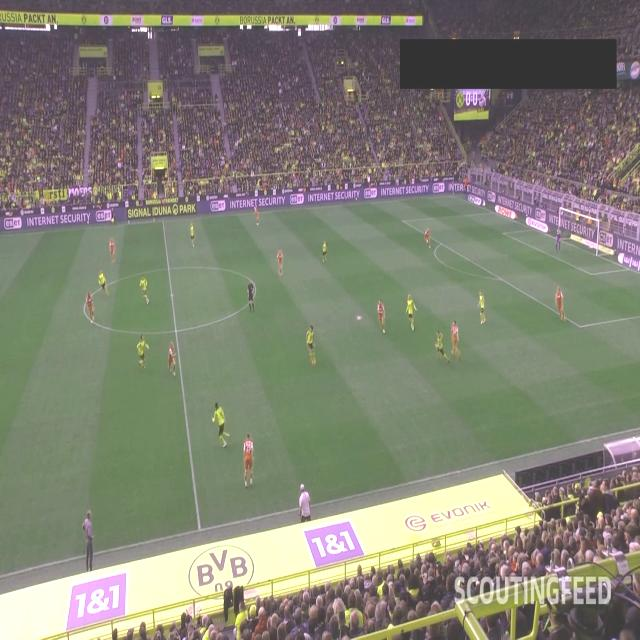ball: (354, 312, 365, 324)
f_player: (214, 402, 232, 446), (242, 433, 256, 489), (434, 330, 450, 362), (305, 324, 317, 366), (136, 336, 150, 372), (449, 320, 461, 360), (167, 343, 180, 377), (554, 288, 566, 322), (85, 292, 97, 326), (107, 236, 120, 264), (406, 295, 416, 331), (138, 275, 150, 303), (376, 300, 386, 332), (478, 291, 487, 326), (98, 271, 109, 297), (276, 250, 284, 278), (190, 224, 198, 248), (554, 228, 562, 252), (320, 240, 328, 262), (422, 229, 430, 249), (253, 202, 259, 228)
umpire: (246, 282, 256, 312), (109, 206, 117, 223)
